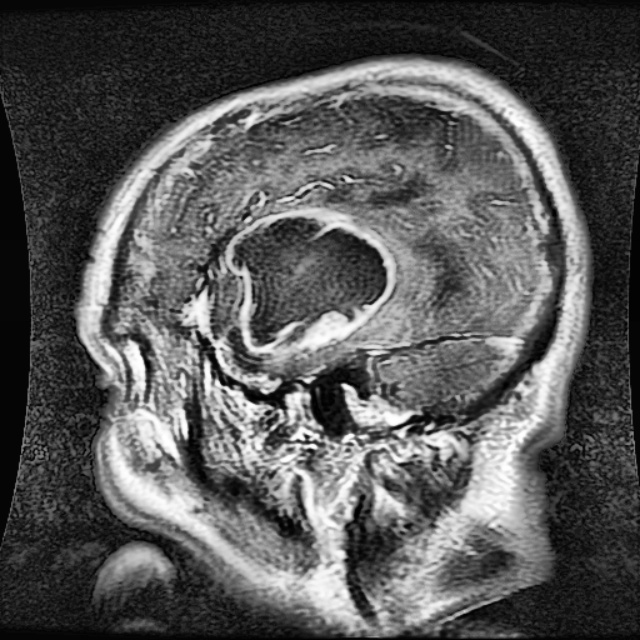Meningioma: (228, 208, 395, 348)
